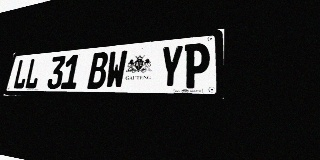1: (60, 54, 81, 89)
3: (46, 56, 66, 89)
B: (87, 52, 109, 89)
L: (24, 58, 42, 89), (12, 59, 30, 89)
P: (183, 42, 210, 88)
W: (105, 50, 128, 89)
Y: (158, 45, 184, 88)
